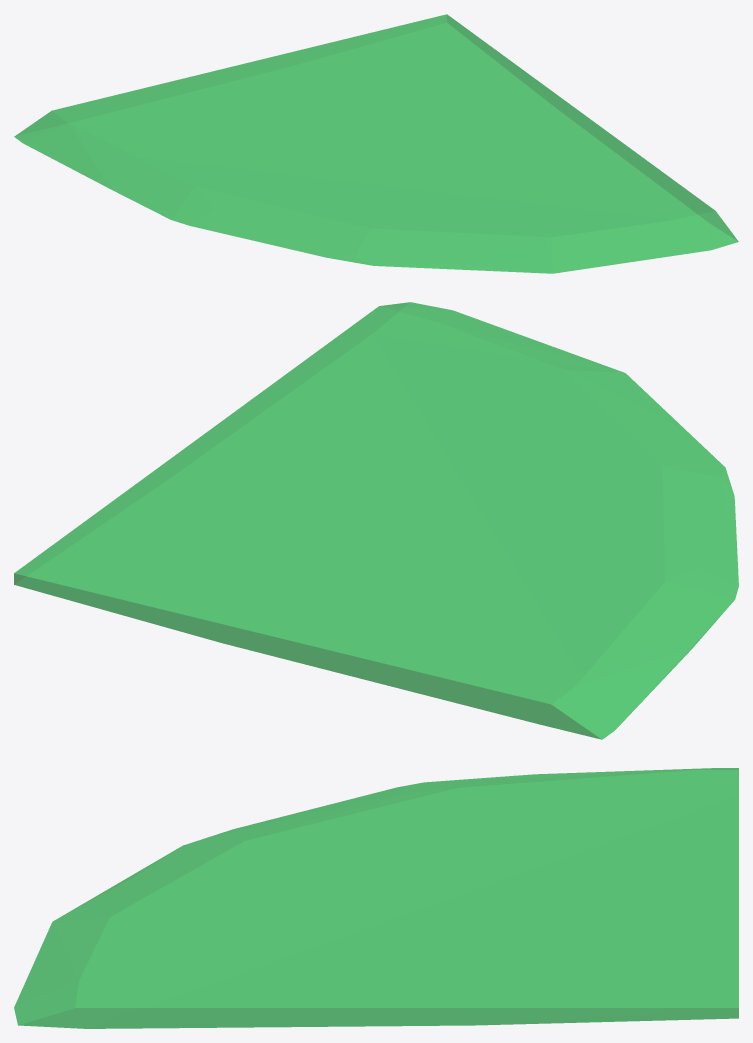
3 renders of one model, top to bottom at view 1: azimuth 30°, elevation 25°; view 2: azimuth 150°, elevation 25°; view 3: azimuth 270°, elevation 25°, orthographic. The views are drawn at different scales.
Parts seen in each view (by area): view 1: Shape_IndexedFaceSet.001_Shape_IndexedFaceSet.5892; view 2: Shape_IndexedFaceSet.001_Shape_IndexedFaceSet.5892; view 3: Shape_IndexedFaceSet.001_Shape_IndexedFaceSet.5892.
Boxes of the visible parts, box(x1,y1,x2,y2) form: Shape_IndexedFaceSet.001_Shape_IndexedFaceSet.5892: box(14, 14, 738, 273); Shape_IndexedFaceSet.001_Shape_IndexedFaceSet.5892: box(14, 302, 738, 739); Shape_IndexedFaceSet.001_Shape_IndexedFaceSet.5892: box(14, 768, 738, 1028).
Size of the model in its own units: 0.3172 by 0.0118 by 0.3723.
